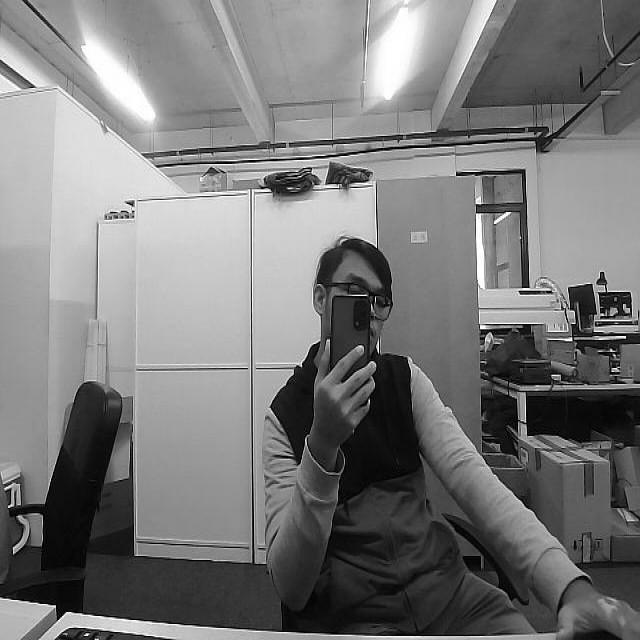phone: (326, 288, 374, 375)
